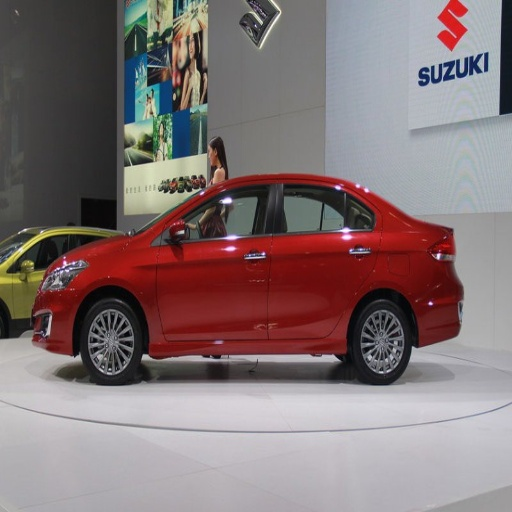back_left_door: (268, 179, 378, 343)
front_left_door: (156, 180, 278, 345)
trunk: (252, 60, 307, 93)
